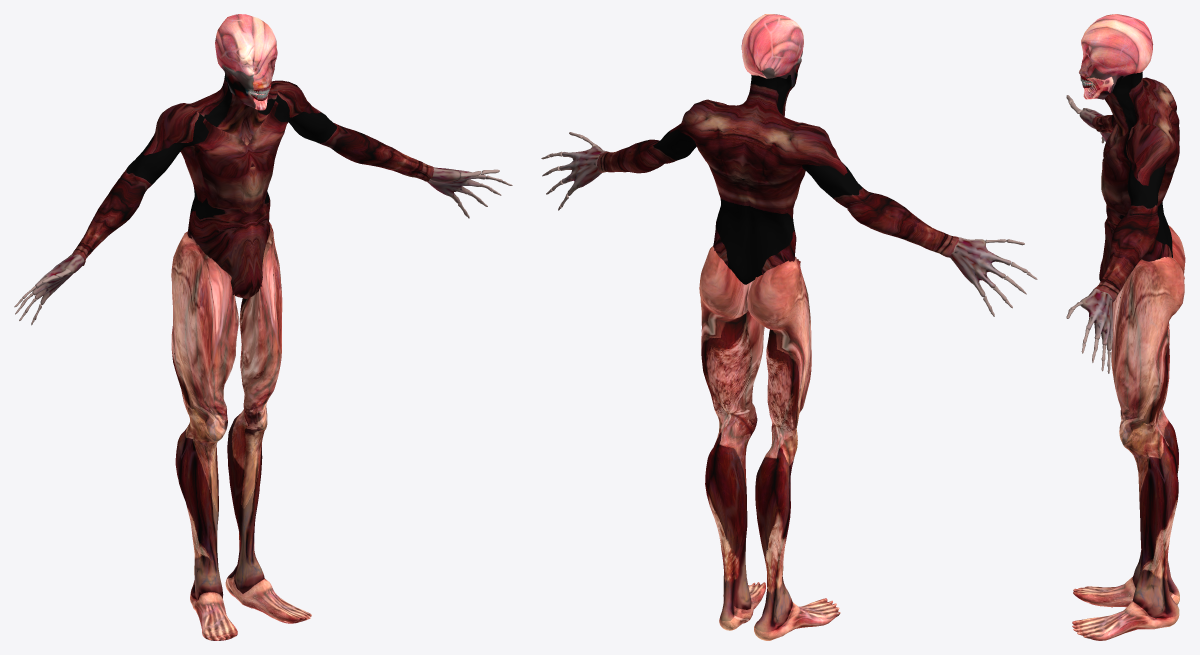
Rendered from skinlessman_-_otherworld_entity.glb.
3 views of the same model, side by side, from view 1: azimuth 30°, elevation 25°; view 2: azimuth 150°, elevation 25°; view 3: azimuth 270°, elevation 25° (orthographic).
Parts seen in each view (by area): view 1: legs, Skinless_01_copy1, Skinless_01, hands; view 2: legs, Skinless_01_copy1, hands, Skinless_01; view 3: legs, Skinless_01_copy1, Skinless_01, hands.
Part boxes in pixels (box(x1,y1,x2,y2)): legs: box(171, 222, 311, 640); Skinless_01_copy1: box(72, 74, 433, 298); Skinless_01: box(215, 14, 277, 110); hands: box(14, 167, 512, 325); legs: box(699, 246, 840, 640); Skinless_01_copy1: box(597, 75, 958, 284); hands: box(541, 132, 1037, 316); Skinless_01: box(741, 14, 803, 90); legs: box(1072, 225, 1185, 640); Skinless_01_copy1: box(1092, 72, 1179, 302); Skinless_01: box(1079, 14, 1153, 99); hands: box(1066, 95, 1112, 373).
Bounding box in the file's own units: 1.63 × 1.9 × 0.3381.
5 materials, 2 textured.
